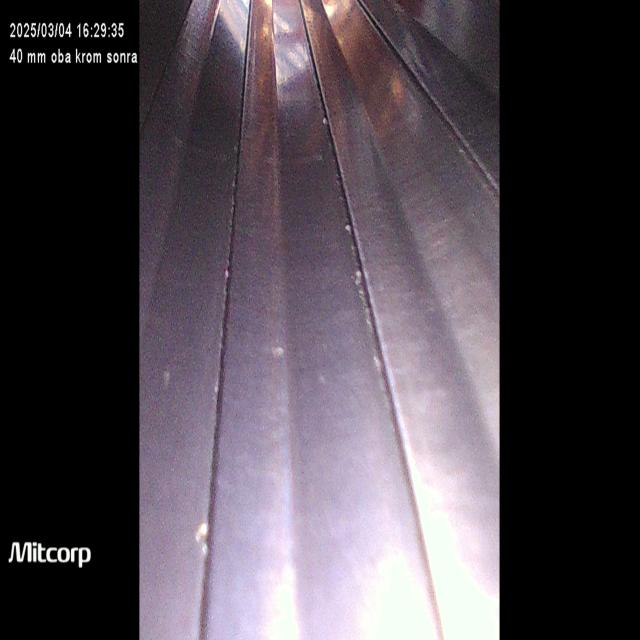hata_8.2: (330, 192, 419, 449)
